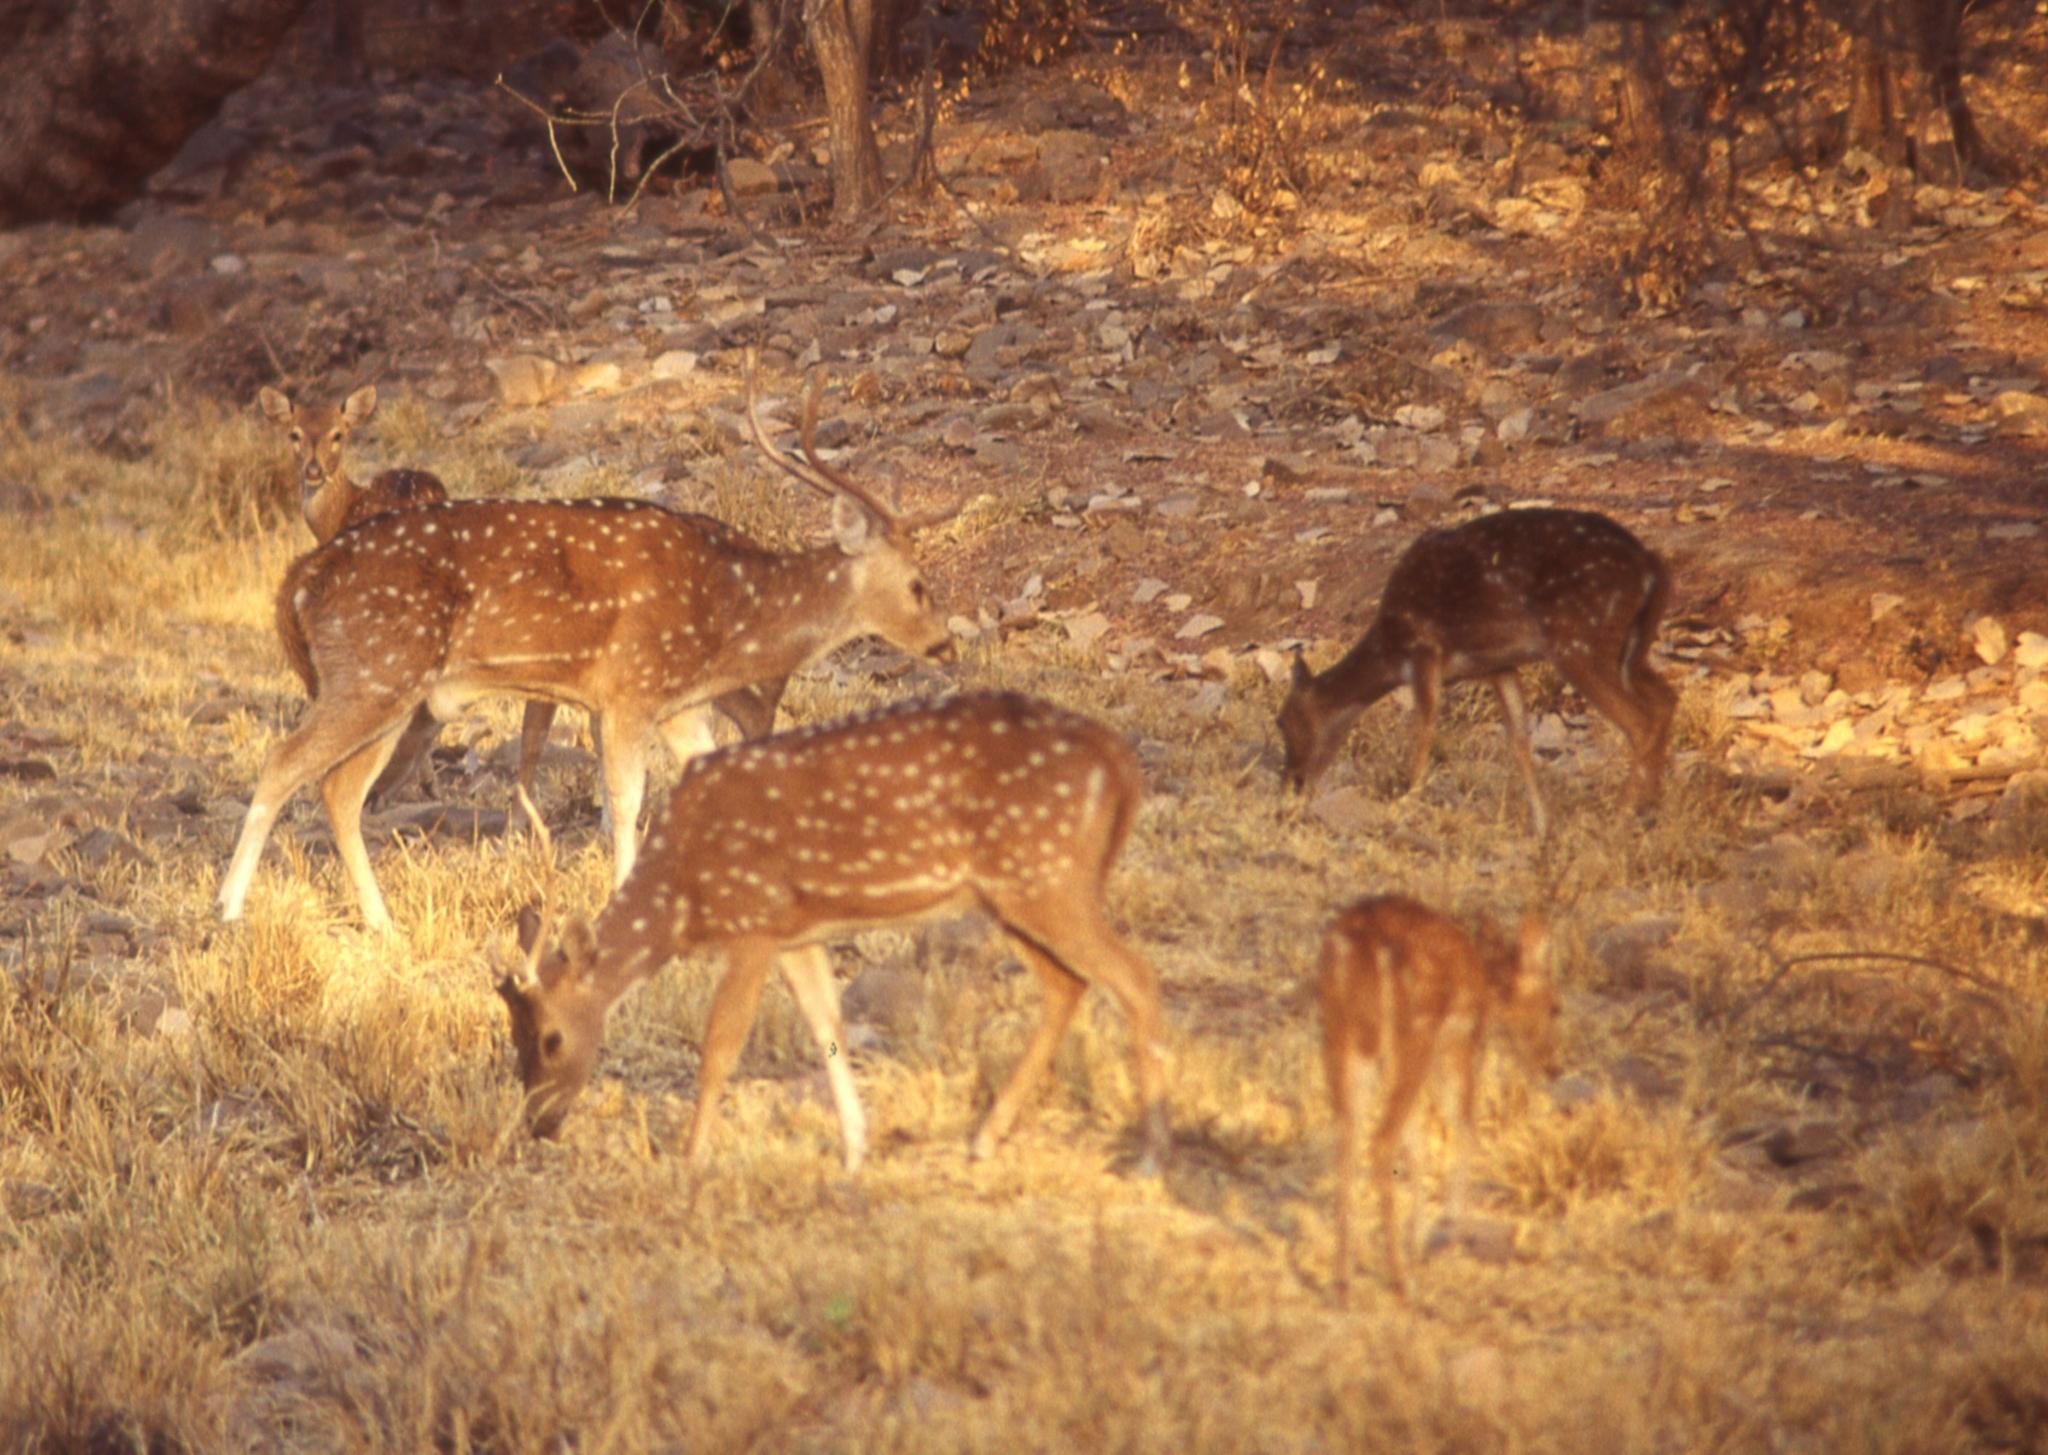Deer: (220, 364, 946, 931), (497, 691, 1171, 1170), (1278, 509, 1675, 830), (1319, 894, 1554, 1279), (257, 384, 376, 542), (386, 479, 444, 498)
